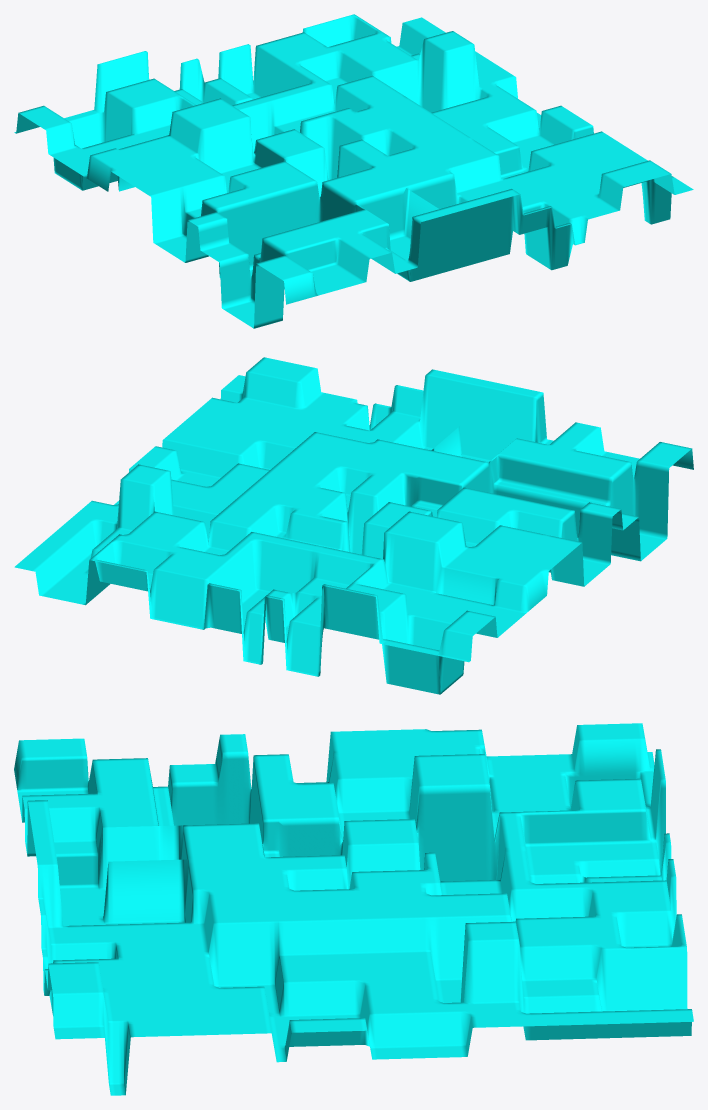
The model's file is Level2Landscape.fbx.
The picture shows the model from 3 angles, top to bottom: view 1: azimuth 30°, elevation 25°; view 2: azimuth 150°, elevation 25°; view 3: azimuth 270°, elevation 25°; orthographic projection. The views are drawn at different scales.
Visible parts, largest first — view 1: LANDSCAPE; view 2: LANDSCAPE; view 3: LANDSCAPE.
Part boxes in pixels (box(x1,y1,x2,y2)): LANDSCAPE: box(14, 14, 693, 328); LANDSCAPE: box(14, 357, 693, 694); LANDSCAPE: box(14, 723, 693, 1095).
Size of the model in its own units: 35520 by 6685 by 35520.
